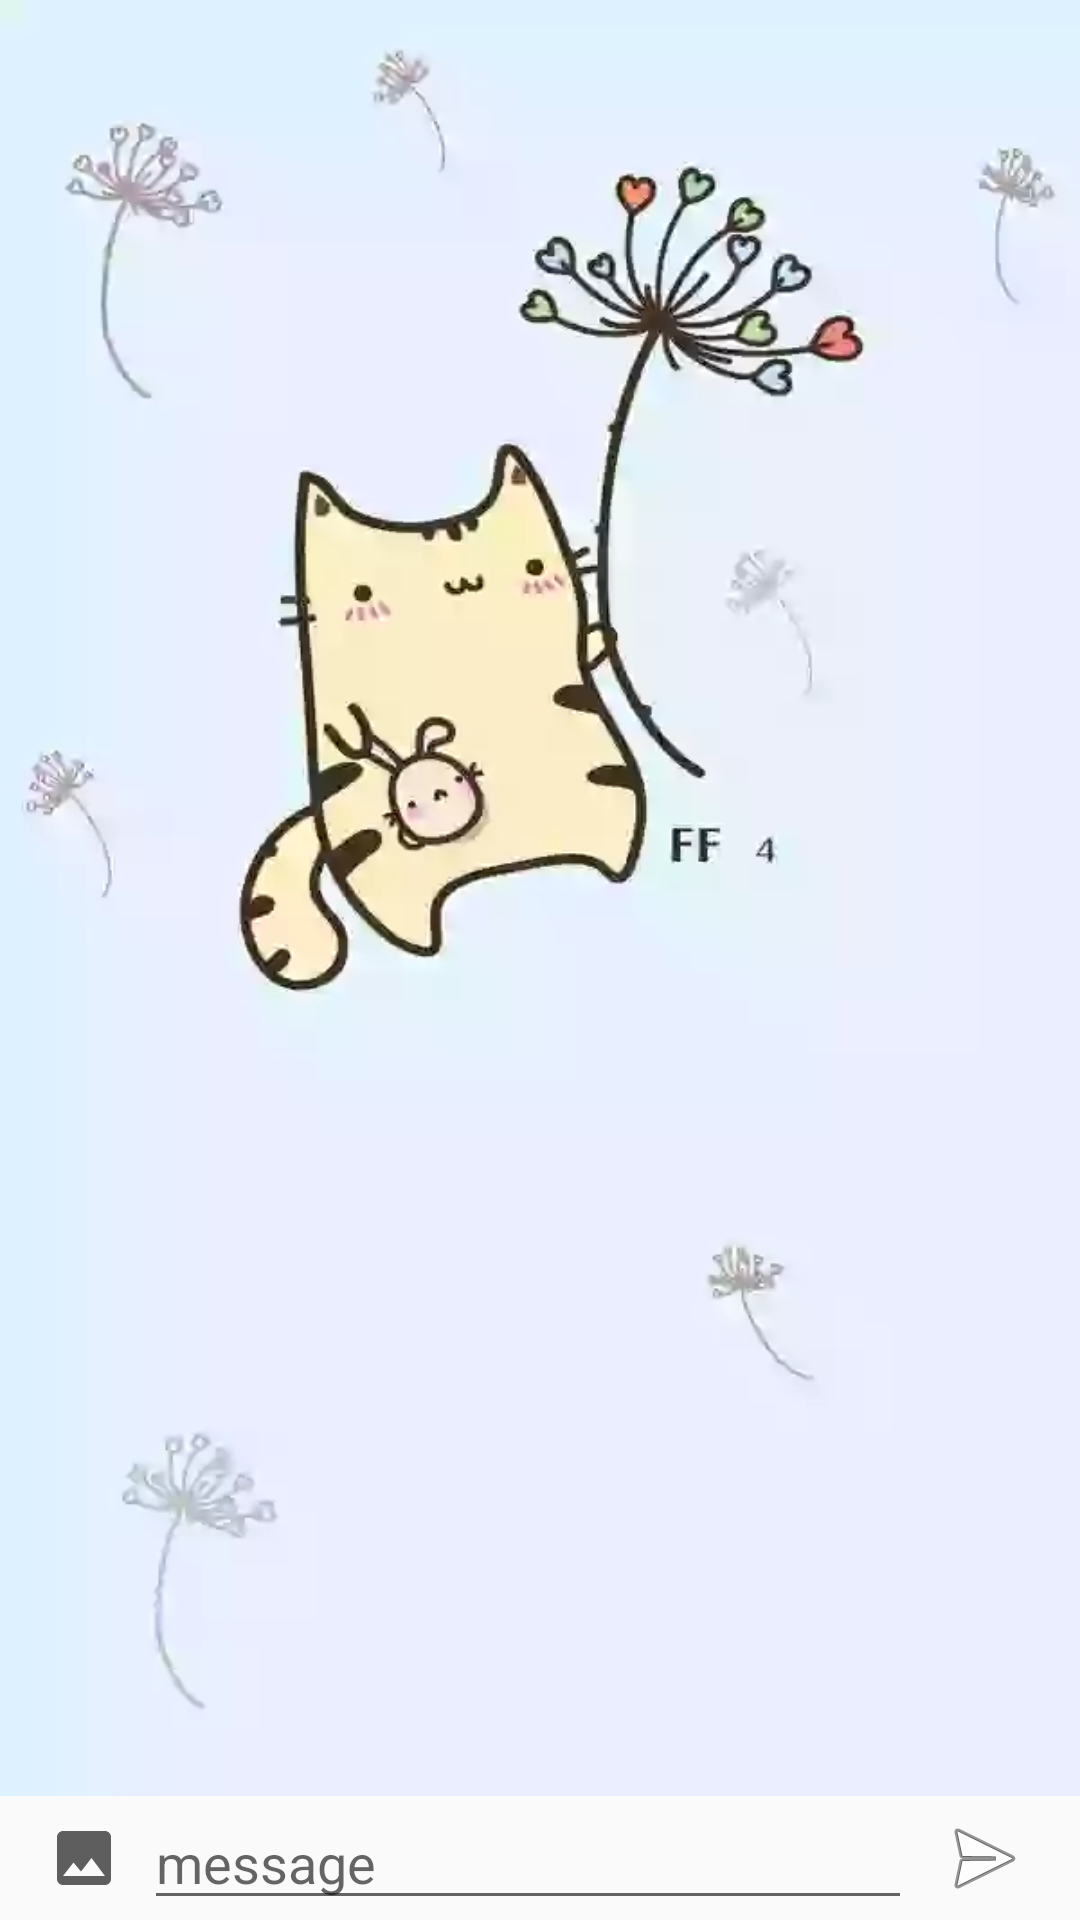

Named icons in this screenshot (1080×1920) and their bounding boxes, (x1, y1, x2, y2):
Send: (954, 1828, 1016, 1889)
Send image: (57, 1831, 111, 1885)
